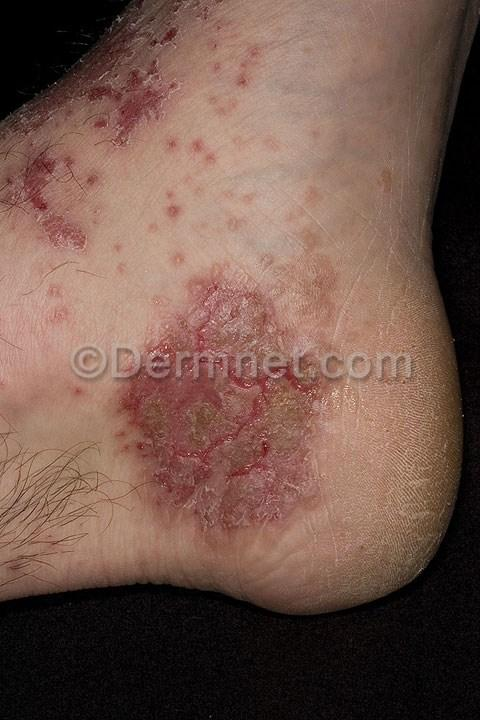Eczema: (104, 288, 346, 552), (0, 142, 105, 261), (208, 129, 372, 183), (197, 178, 293, 266), (68, 65, 175, 139), (127, 167, 200, 266), (296, 229, 374, 306), (187, 72, 259, 124), (200, 37, 268, 91), (43, 274, 98, 340), (376, 73, 433, 135), (160, 106, 222, 162), (141, 17, 208, 68), (47, 359, 106, 414), (285, 31, 335, 78), (378, 156, 415, 219), (201, 0, 255, 34), (17, 101, 74, 132), (97, 29, 134, 59)
